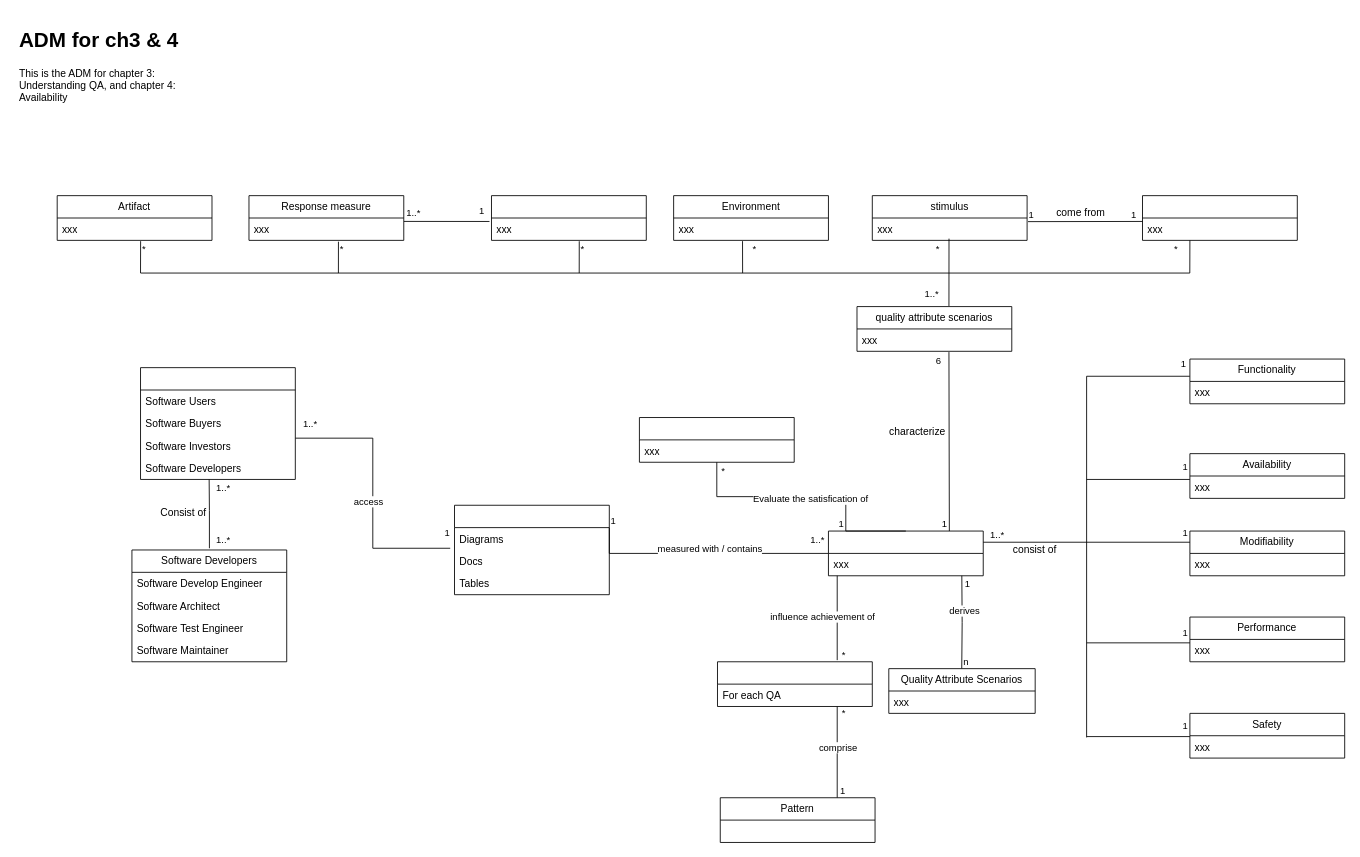
Some shapes in this 1360 by 857 pixel diagram are drawn without their labels. The box of each missing label's shape, as (x1, y1, x2, y2) in pixels:
Quality Attribute: (828, 530, 983, 576)
Response: (491, 195, 646, 240)
Software Architectures: (454, 504, 609, 595)
Stakeholders: (140, 367, 295, 479)
stimulus source: (1142, 195, 1297, 240)
Tactic-Based Questionnaries: (639, 417, 794, 462)
Tactics: (717, 661, 872, 706)
